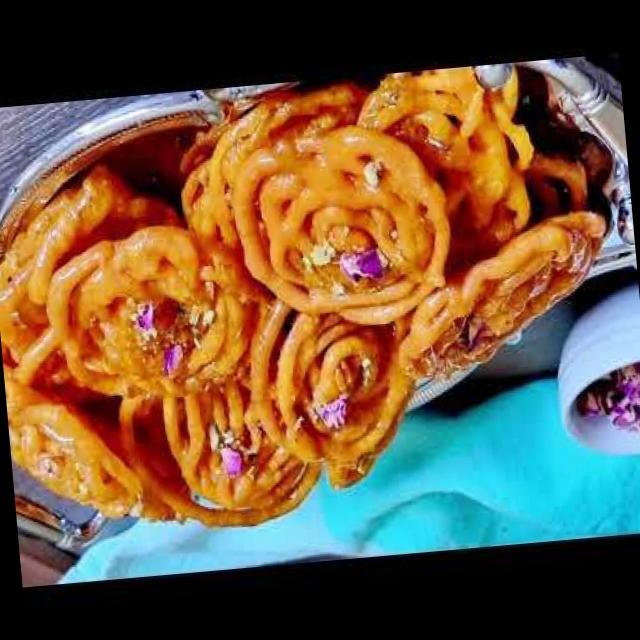jalebi: (0, 60, 615, 541)
